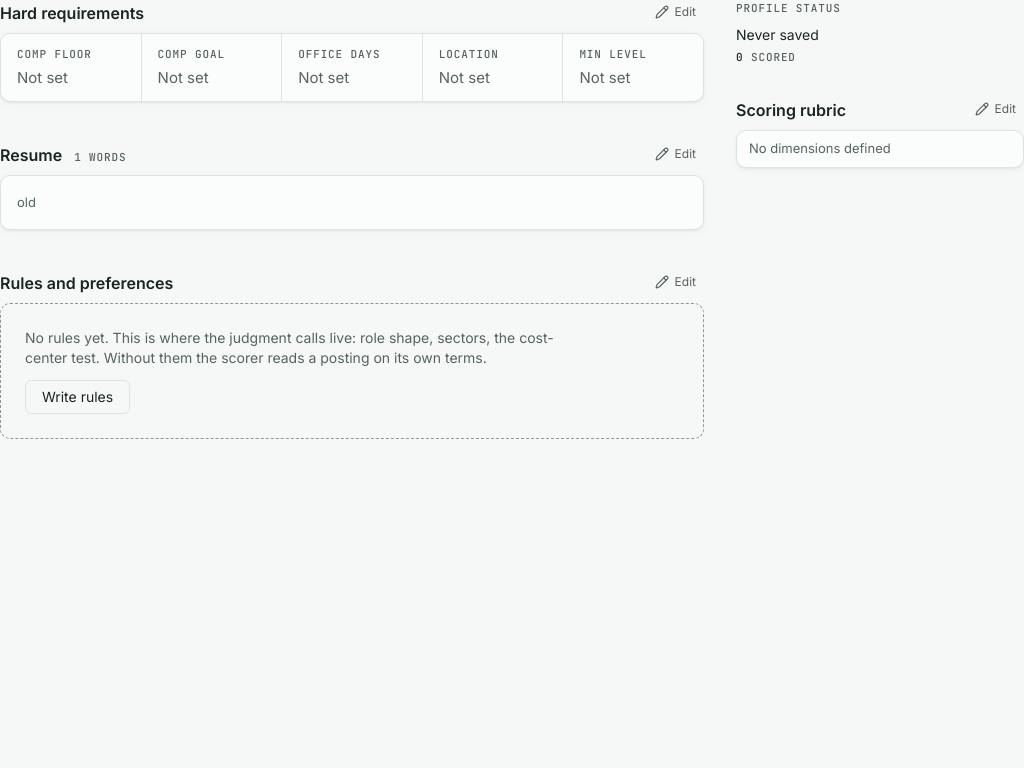
it: ProfilePage read view › does not mount the resume textarea until the editor is opened
Click the button with aria-label "edit resume" at coordinates (675, 154), box [647,142,704,166]
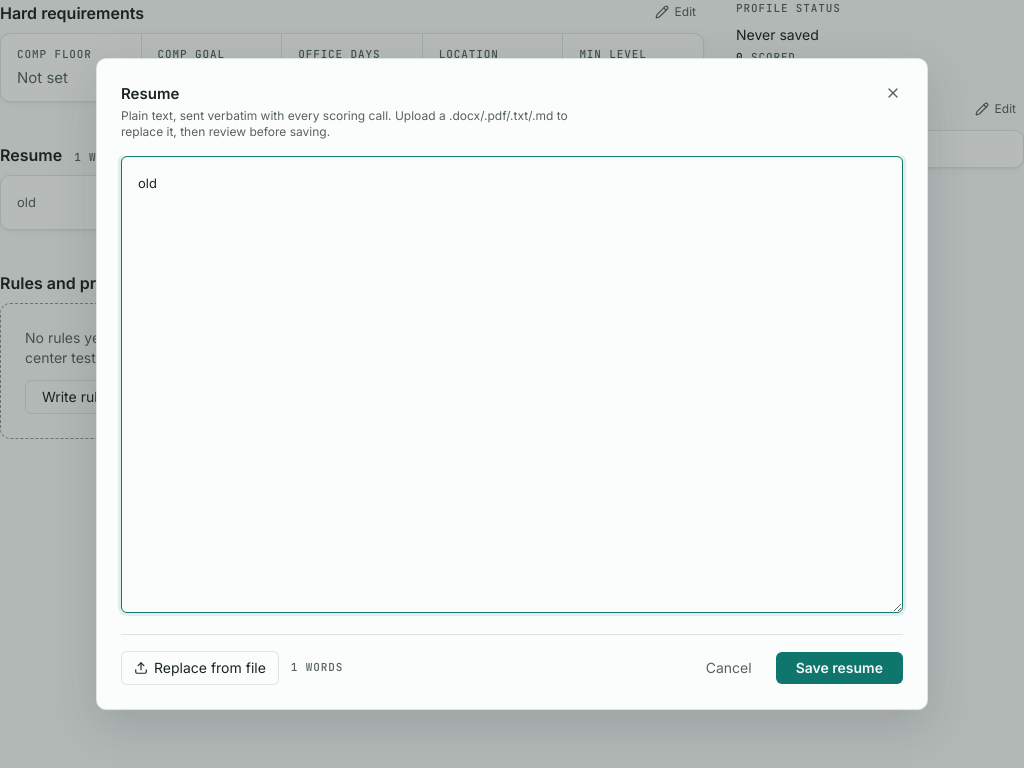
Expected: the text box named "Resume" holds "old", [121,156,903,613]
